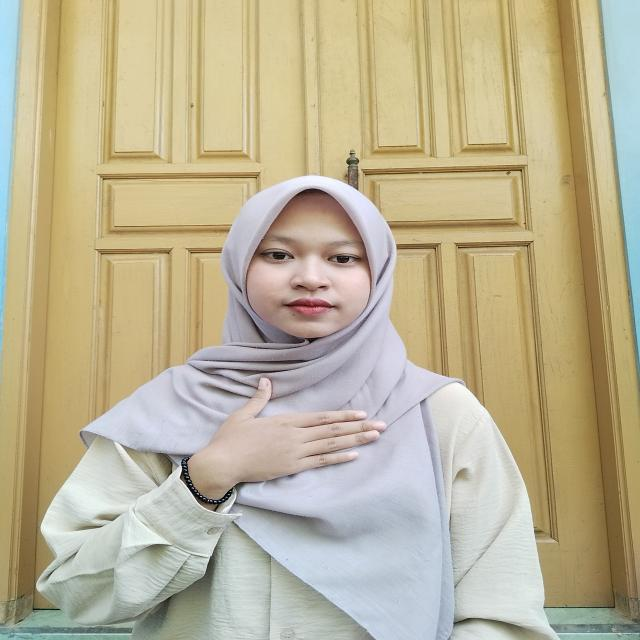tolong: (152, 367, 392, 523)
